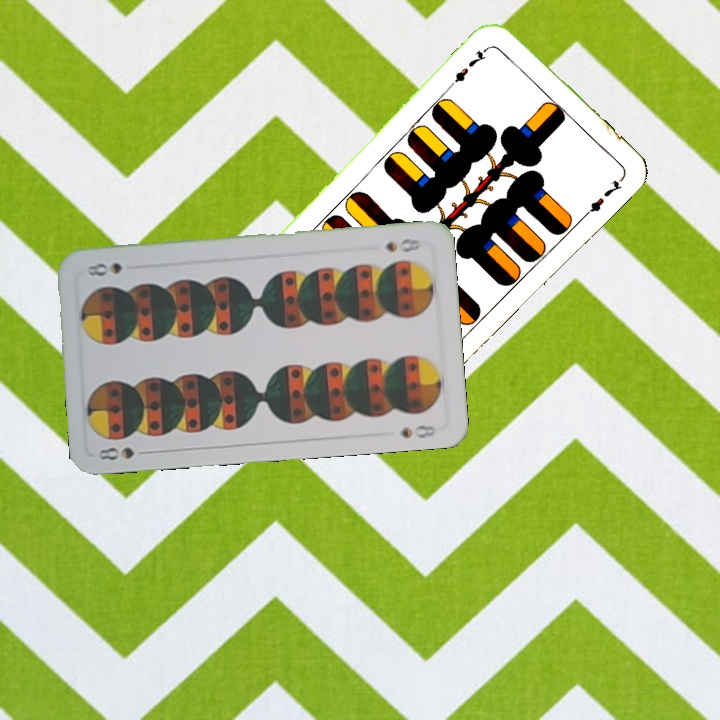E7: (447, 41, 493, 88)
S8: (94, 443, 153, 463), (381, 235, 425, 255)
